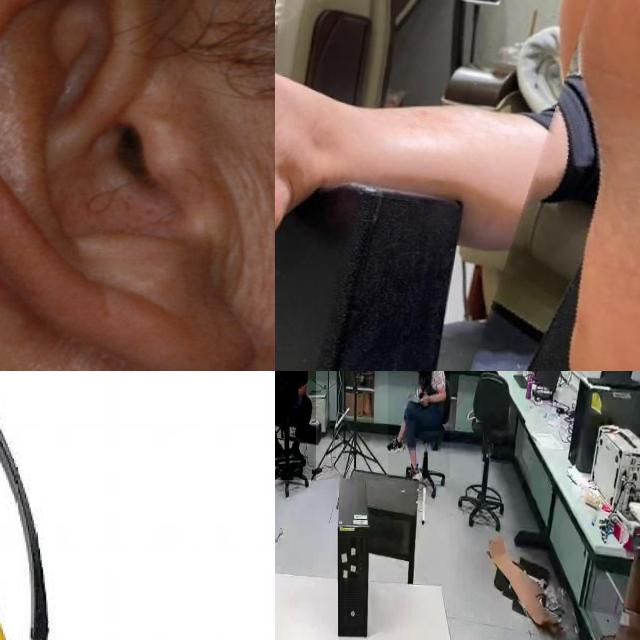Barefoots: (547, 0, 640, 371)
Ear-protection: (0, 371, 65, 640)
No_Ear-Protection: (0, 0, 261, 371)
hand_noglove: (418, 393, 431, 406)
person: (387, 371, 450, 479), (275, 371, 316, 481)
shoes: (290, 438, 306, 470), (384, 434, 408, 455), (403, 464, 426, 483), (275, 438, 285, 470)
